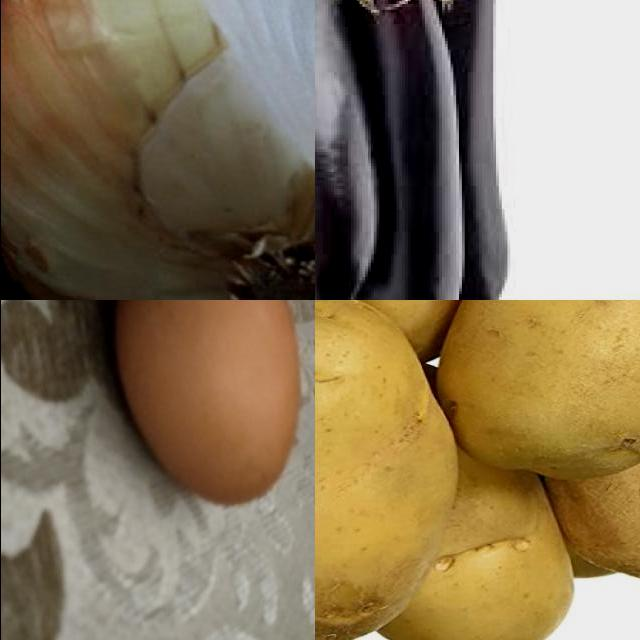egg: (109, 301, 306, 515)
eggplant: (354, 1, 465, 301), (422, 1, 510, 301), (315, 1, 383, 301)
onion: (1, 1, 315, 301)
potato: (315, 301, 456, 640), (374, 448, 571, 640), (443, 301, 640, 479), (556, 317, 640, 587)
